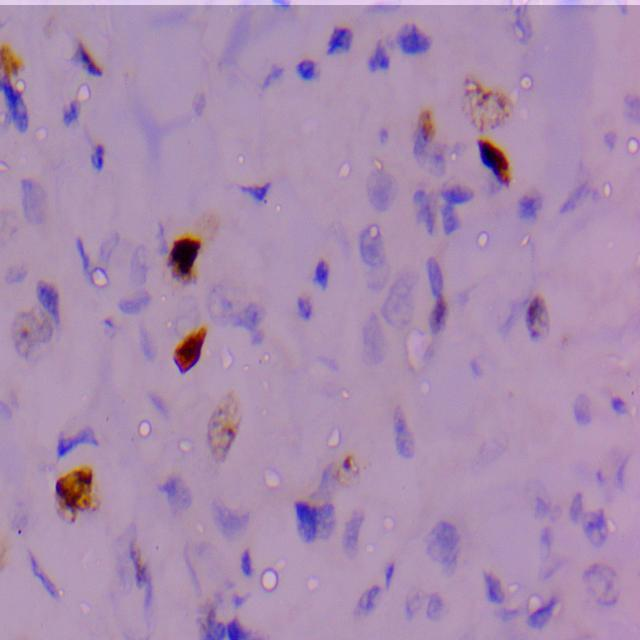Healthy cell: (203, 279, 267, 344), (568, 495, 632, 559), (573, 565, 640, 616), (380, 262, 422, 328), (16, 174, 59, 236), (423, 517, 464, 574), (363, 164, 401, 222), (380, 408, 417, 466), (386, 19, 440, 58), (160, 468, 198, 514), (403, 186, 434, 241), (442, 176, 470, 234), (513, 176, 545, 224), (213, 498, 247, 540), (318, 20, 358, 55), (356, 312, 385, 360), (359, 219, 389, 264), (403, 583, 437, 615), (363, 36, 393, 72), (609, 387, 633, 421), (572, 389, 592, 425), (300, 56, 324, 80)
cancer-cell-QiJm: (4, 303, 58, 364), (460, 74, 508, 138), (54, 462, 102, 524), (292, 489, 355, 536), (319, 438, 361, 508), (162, 232, 213, 287), (199, 590, 254, 640), (208, 388, 244, 460), (123, 519, 155, 590), (170, 319, 211, 373), (478, 142, 528, 175), (74, 27, 104, 78), (84, 136, 120, 177), (419, 93, 443, 153), (0, 517, 21, 580), (0, 40, 29, 85), (192, 210, 227, 244), (318, 254, 342, 300), (529, 290, 549, 341), (426, 292, 448, 338), (64, 88, 88, 130), (0, 246, 22, 291), (43, 4, 72, 36), (0, 205, 20, 247), (452, 60, 464, 78)
